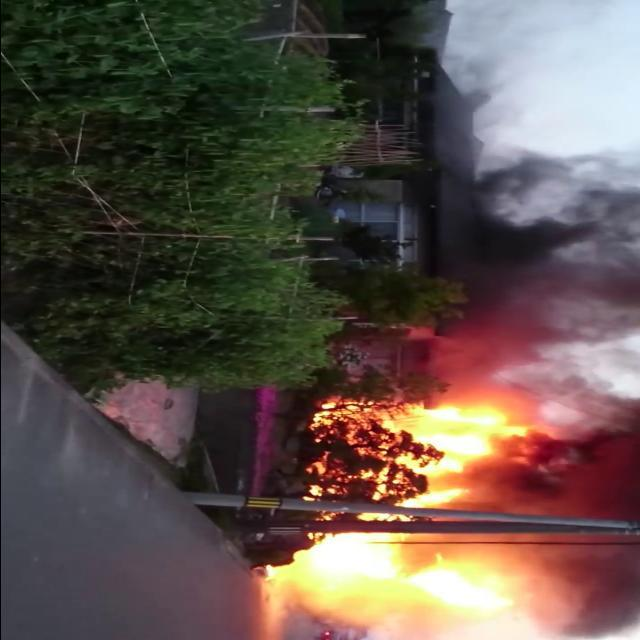Fire: (260, 533, 524, 626), (358, 396, 526, 507), (308, 399, 372, 428), (302, 482, 342, 502), (356, 512, 412, 524), (305, 449, 330, 475), (314, 510, 344, 522)
